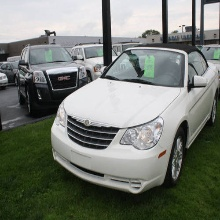no damage: (51, 46, 218, 194), (18, 39, 112, 117)
